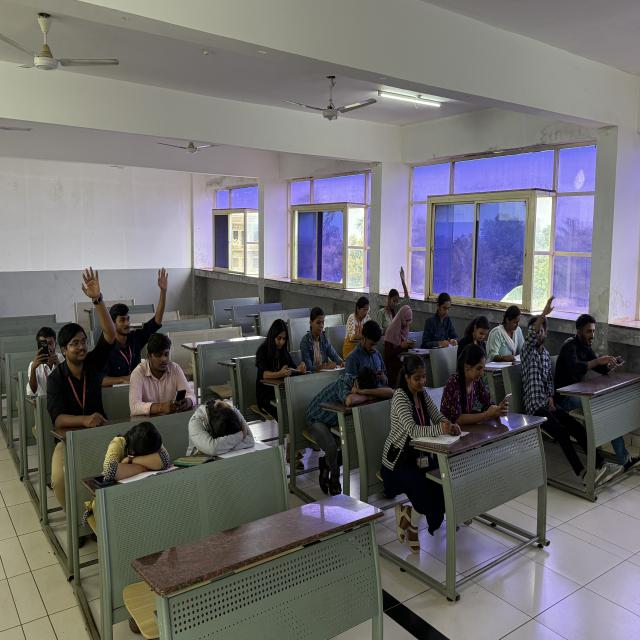Hand Rising: (51, 261, 120, 416), (113, 250, 172, 370), (521, 292, 561, 384), (381, 262, 412, 324)
Reading: (252, 316, 308, 384), (488, 304, 527, 359), (456, 312, 494, 368)
Sleeping: (94, 414, 176, 489), (175, 394, 262, 464), (302, 364, 394, 418)
Using Phone: (122, 332, 199, 418), (442, 344, 516, 426), (558, 311, 628, 376), (26, 321, 69, 397), (344, 317, 391, 384), (381, 304, 422, 359)
Writing: (386, 353, 456, 452), (298, 304, 349, 374), (423, 290, 460, 349)
